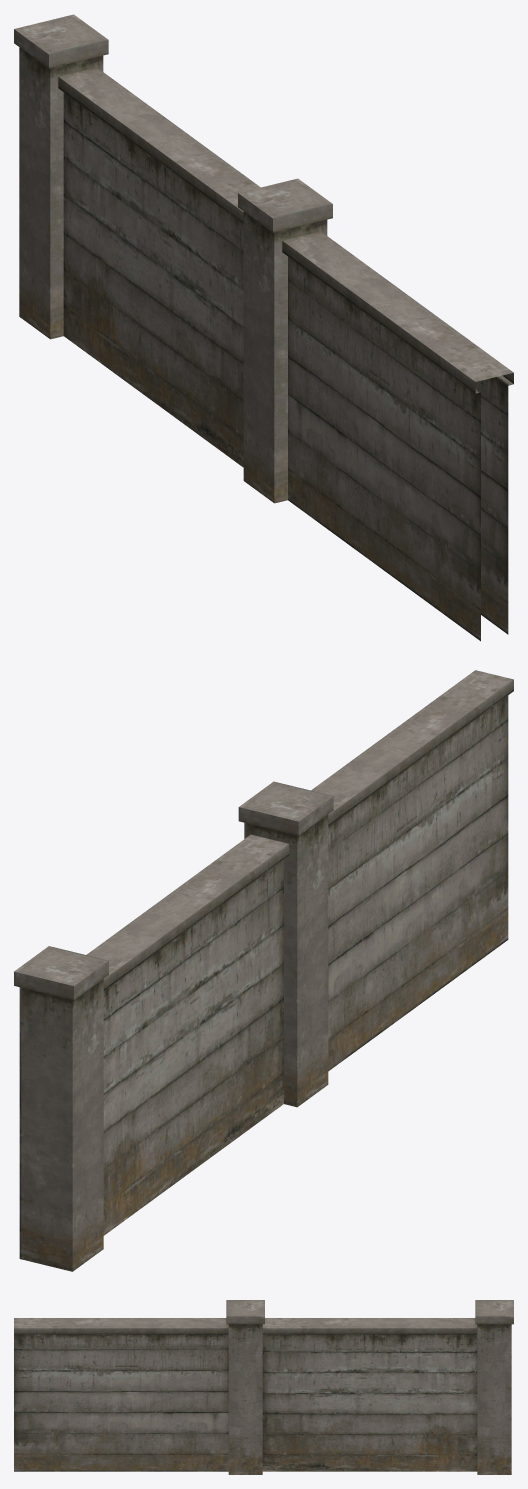
Rendered from Concrete_fence_v1_wall_set_v1 (15).fbx.
3 renders of one model, top to bottom at view 1: azimuth 30°, elevation 25°; view 2: azimuth 150°, elevation 25°; view 3: azimuth 270°, elevation 25°, orthographic. The views are drawn at different scales.
Visible parts, largest first — view 1: Concrete_fence_v1_wall_set_v1__15_; view 2: Concrete_fence_v1_wall_set_v1__15_; view 3: Concrete_fence_v1_wall_set_v1__15_.
Part boxes in pixels (x1=…): Concrete_fence_v1_wall_set_v1__15_: x1=14, y1=14, x2=513, y2=641; Concrete_fence_v1_wall_set_v1__15_: x1=14, y1=670, x2=513, y2=1271; Concrete_fence_v1_wall_set_v1__15_: x1=14, y1=1300, x2=513, y2=1474.
Bounding box in the file's own units: 71.99 × 330 × 937.
